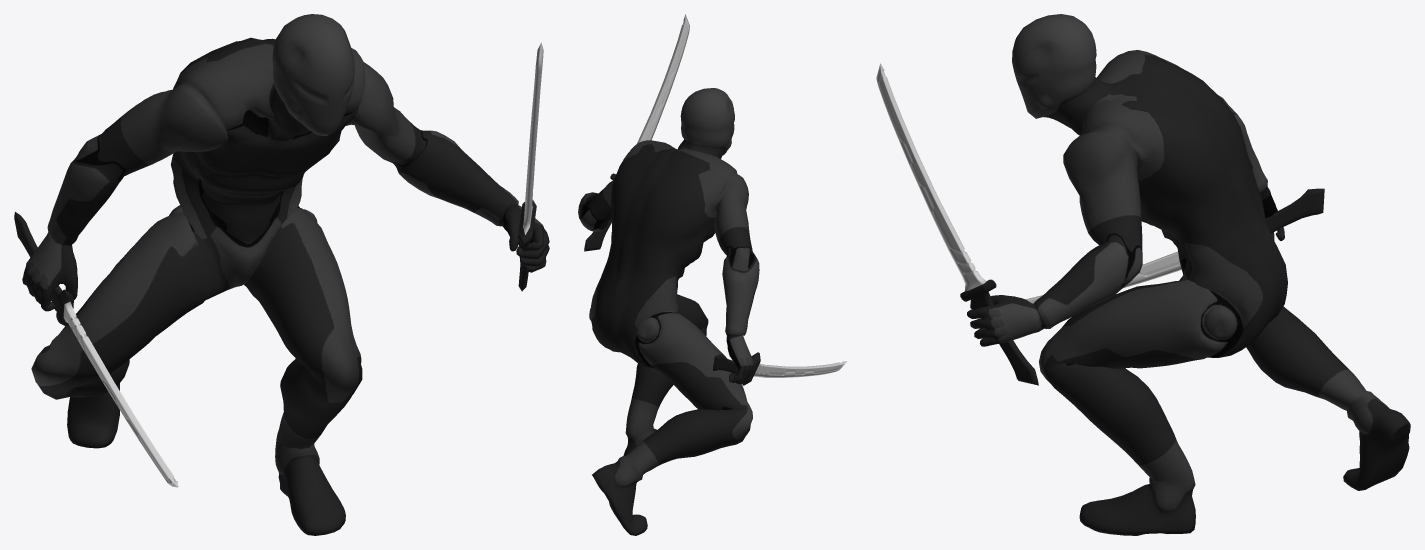
3 renders of one model, left to right at view 1: azimuth 30°, elevation 25°; view 2: azimuth 150°, elevation 25°; view 3: azimuth 270°, elevation 25°, orthographic. The views are drawn at different scales.
Parts seen in each view (by area): view 1: Cyborg_Ninja_Killer, Sword_l001, Sword_l; view 2: Cyborg_Ninja_Killer, Sword_l, Sword_l001; view 3: Cyborg_Ninja_Killer, Sword_l, Sword_l001.
Boxes of the visible parts, <box> form: Cyborg_Ninja_Killer: <box>22,14,549,535</box>; Sword_l001: <box>14,212,178,487</box>; Sword_l: <box>518,42,543,291</box>; Cyborg_Ninja_Killer: <box>578,88,759,535</box>; Sword_l: <box>584,14,689,251</box>; Sword_l001: <box>713,352,847,385</box>; Cyborg_Ninja_Killer: <box>967,14,1410,535</box>; Sword_l: <box>876,63,1038,385</box>; Sword_l001: <box>1025,188,1324,303</box>.
Bounding box in the file's own units: 97.82 × 136 × 130.
Materials: 2 (2 with a texture image).
